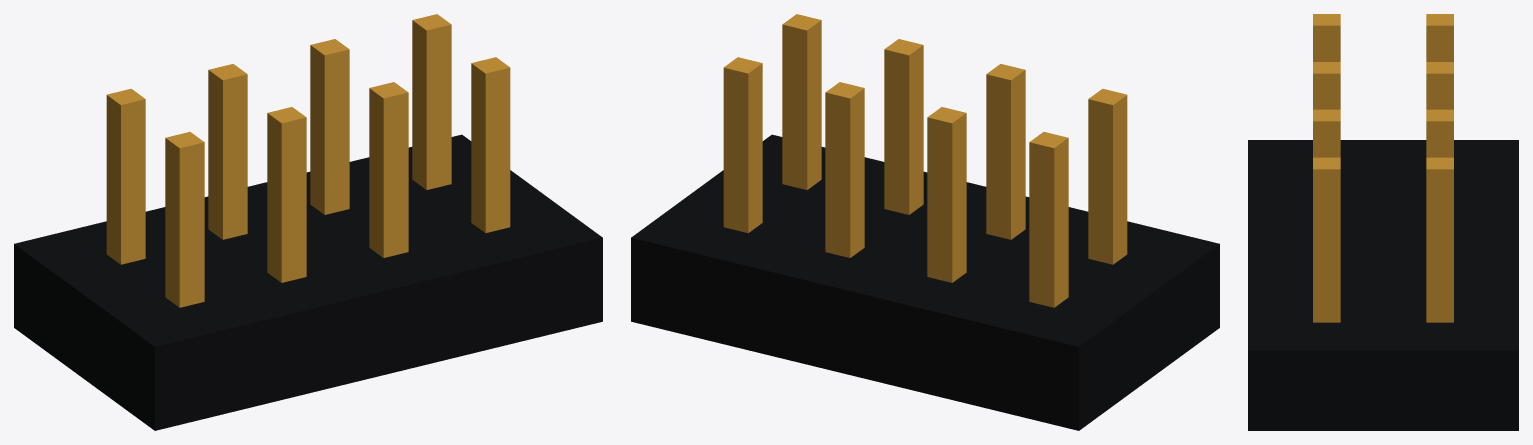
The model's file is L131_SPEAKER.fbx.
3 views of the same model, side by side, from view 1: azimuth 30°, elevation 25°; view 2: azimuth 150°, elevation 25°; view 3: azimuth 270°, elevation 25° (orthographic). The views are drawn at different scales.
Parts seen in each view (by area): view 1: SPEAKER_Black, SPEAKER_Gold; view 2: SPEAKER_Black, SPEAKER_Gold; view 3: SPEAKER_Black, SPEAKER_Gold.
Boxes of the visible parts, box(x1,y1,x2,y2) form: SPEAKER_Black: box(14, 134, 602, 430); SPEAKER_Gold: box(106, 14, 510, 307); SPEAKER_Black: box(631, 134, 1219, 430); SPEAKER_Gold: box(723, 14, 1127, 307); SPEAKER_Black: box(1248, 140, 1518, 430); SPEAKER_Gold: box(1313, 14, 1453, 322).
Size of the model in its own units: 1.12 by 0.58 by 0.608.
